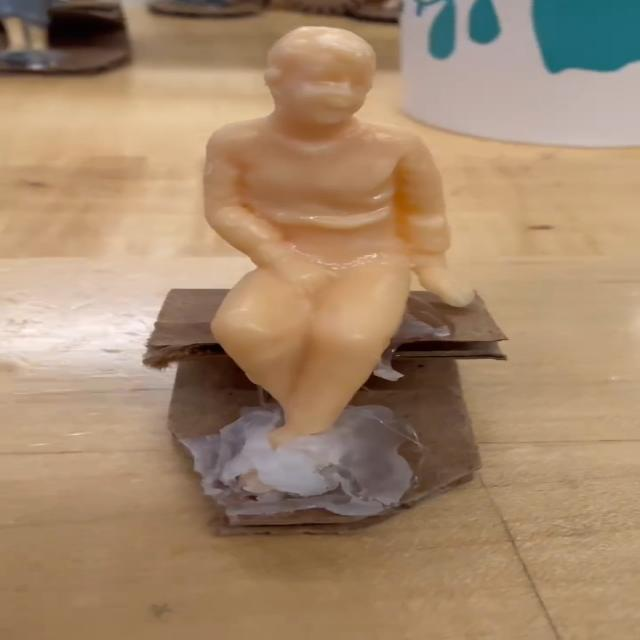Unauthorized: (107, 16, 523, 577)
